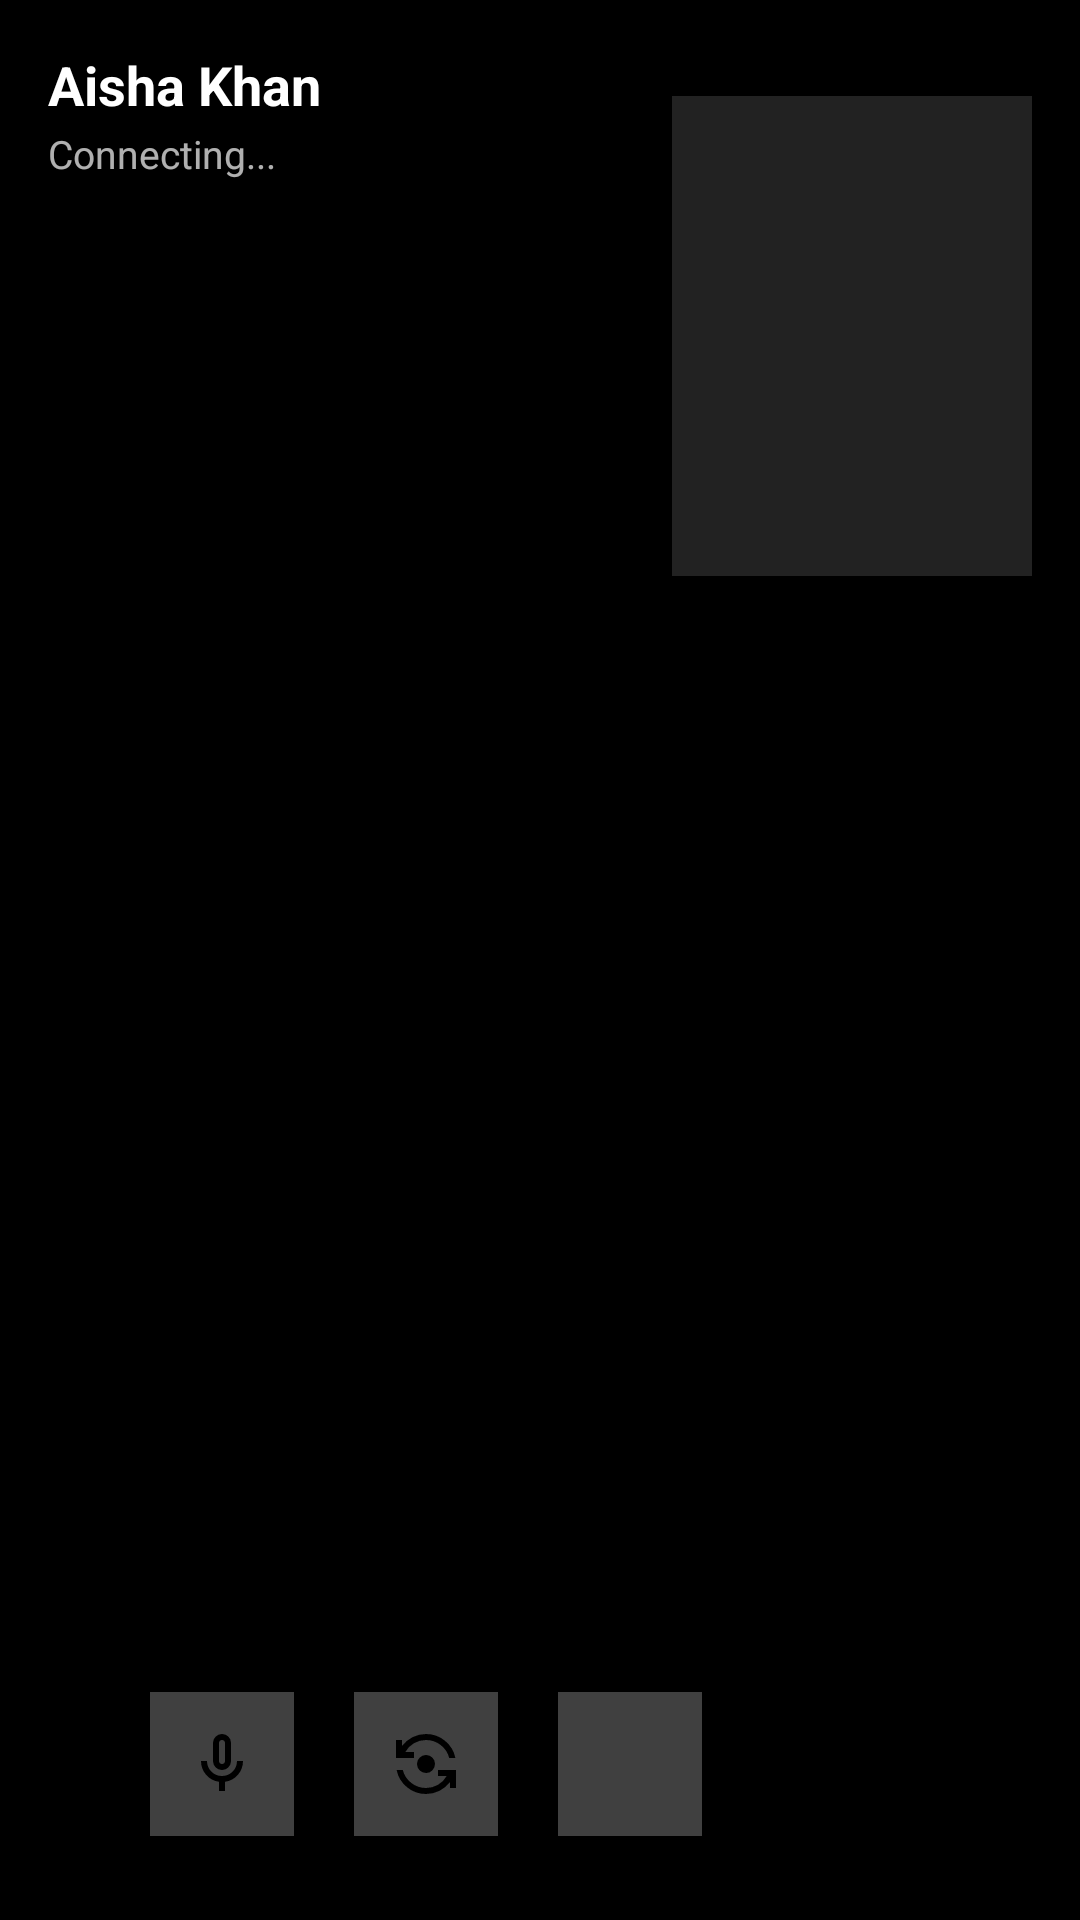

Screen size 1080 x 1920. Icon name, then its center in pixels as (x,y):
Mute Audio: (222,1764)
Switch Camera: (426,1764)
